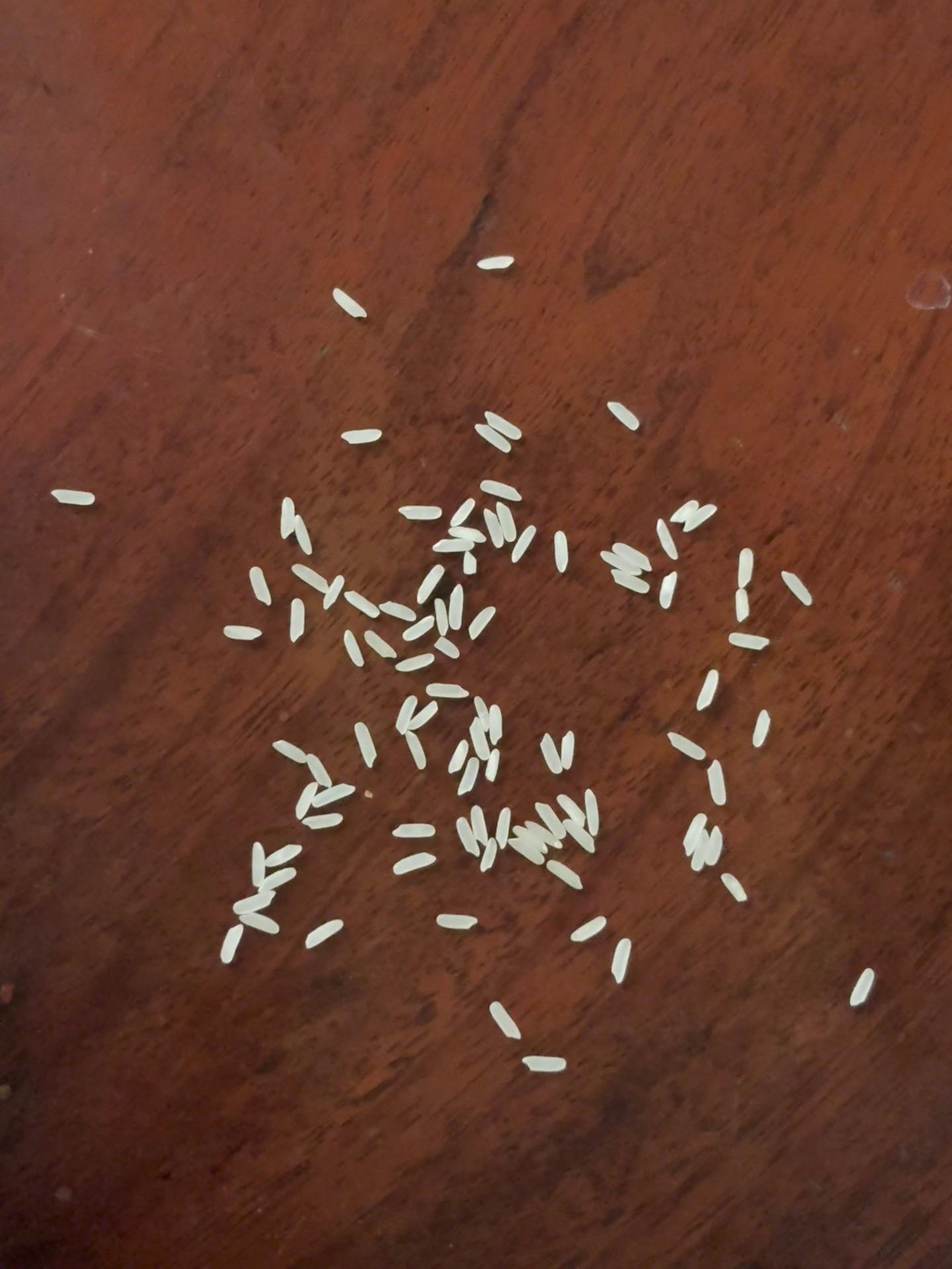Rice-th-y-nh: (489, 1002, 522, 1040), (534, 801, 565, 840), (523, 819, 562, 850), (613, 541, 653, 571), (704, 759, 729, 806), (304, 919, 343, 949), (667, 731, 706, 761), (416, 564, 445, 604), (292, 563, 329, 594), (599, 550, 643, 576), (466, 717, 492, 761), (563, 819, 596, 853), (781, 570, 813, 605), (474, 423, 511, 453), (547, 860, 583, 890), (454, 817, 481, 857), (353, 722, 377, 767), (257, 867, 297, 894), (312, 783, 355, 808), (485, 411, 522, 440), (508, 836, 545, 865), (219, 923, 245, 964), (538, 733, 564, 774), (610, 569, 650, 595), (654, 519, 679, 560), (333, 288, 367, 318), (556, 793, 586, 827), (696, 669, 720, 711), (407, 701, 439, 732), (607, 401, 640, 431), (610, 938, 632, 983), (248, 842, 270, 887), (467, 606, 496, 640), (683, 504, 717, 533), (344, 591, 379, 619), (850, 968, 875, 1007), (393, 852, 437, 874), (233, 891, 275, 914), (683, 813, 707, 853), (481, 508, 505, 548), (495, 502, 519, 542), (364, 630, 397, 659), (511, 525, 536, 563), (248, 566, 272, 605), (457, 757, 481, 796), (240, 911, 279, 935), (570, 917, 607, 942), (395, 695, 418, 735), (306, 754, 333, 788), (514, 827, 548, 854), (294, 782, 318, 820), (404, 730, 427, 769), (484, 705, 507, 744), (402, 615, 435, 642), (480, 480, 522, 501), (272, 739, 307, 764), (657, 571, 680, 609), (447, 585, 466, 631), (477, 837, 501, 873), (493, 807, 514, 848), (277, 497, 298, 538), (690, 833, 712, 872), (468, 806, 490, 845), (557, 731, 579, 770), (265, 844, 302, 867), (583, 789, 601, 836), (342, 630, 365, 666), (432, 536, 475, 555), (720, 873, 747, 903), (322, 575, 345, 610), (293, 515, 313, 555), (51, 488, 95, 506), (447, 740, 470, 774), (704, 827, 724, 866), (728, 632, 769, 651), (522, 1055, 567, 1072), (552, 531, 570, 573), (450, 498, 476, 527), (289, 598, 306, 642), (379, 601, 416, 621), (752, 710, 772, 747), (425, 682, 468, 699), (392, 822, 435, 839), (396, 653, 434, 672), (436, 913, 478, 930), (669, 500, 700, 523), (736, 549, 754, 588), (303, 813, 343, 830), (449, 525, 486, 543), (432, 598, 450, 635), (399, 505, 442, 520), (733, 589, 752, 622), (434, 636, 460, 660), (484, 748, 502, 782), (342, 429, 382, 444), (474, 696, 491, 731), (223, 625, 261, 640), (477, 255, 514, 270), (462, 551, 478, 575)
